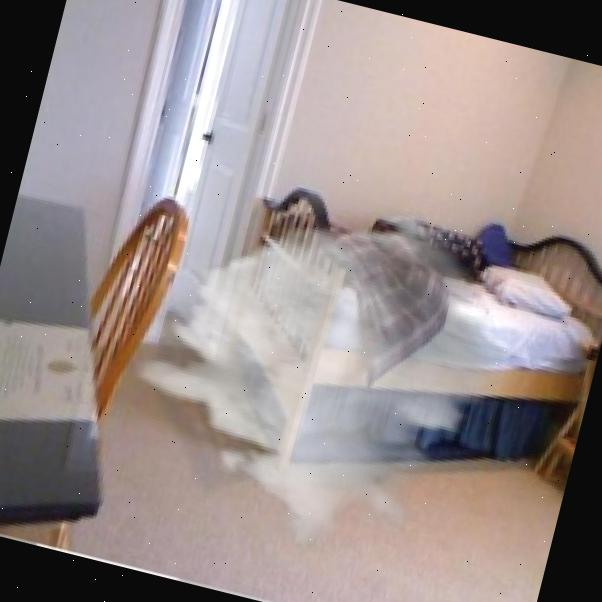smoke: (98, 152, 549, 588)
